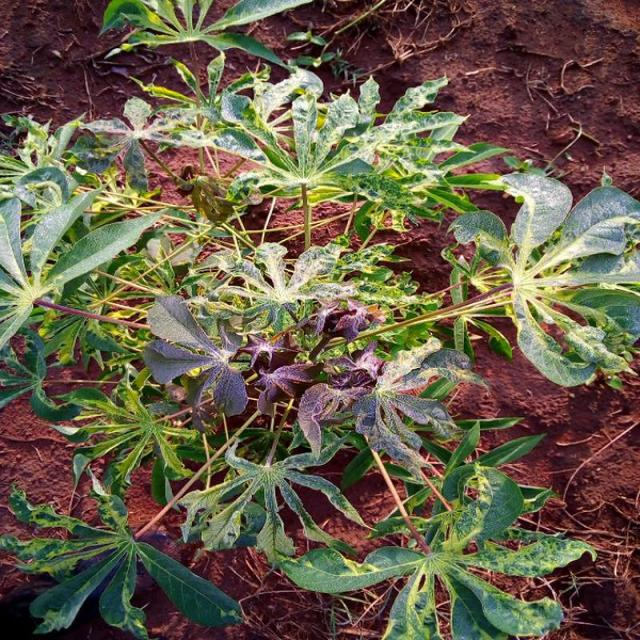cassava leaf: (1, 8, 638, 637), (141, 292, 249, 418)
